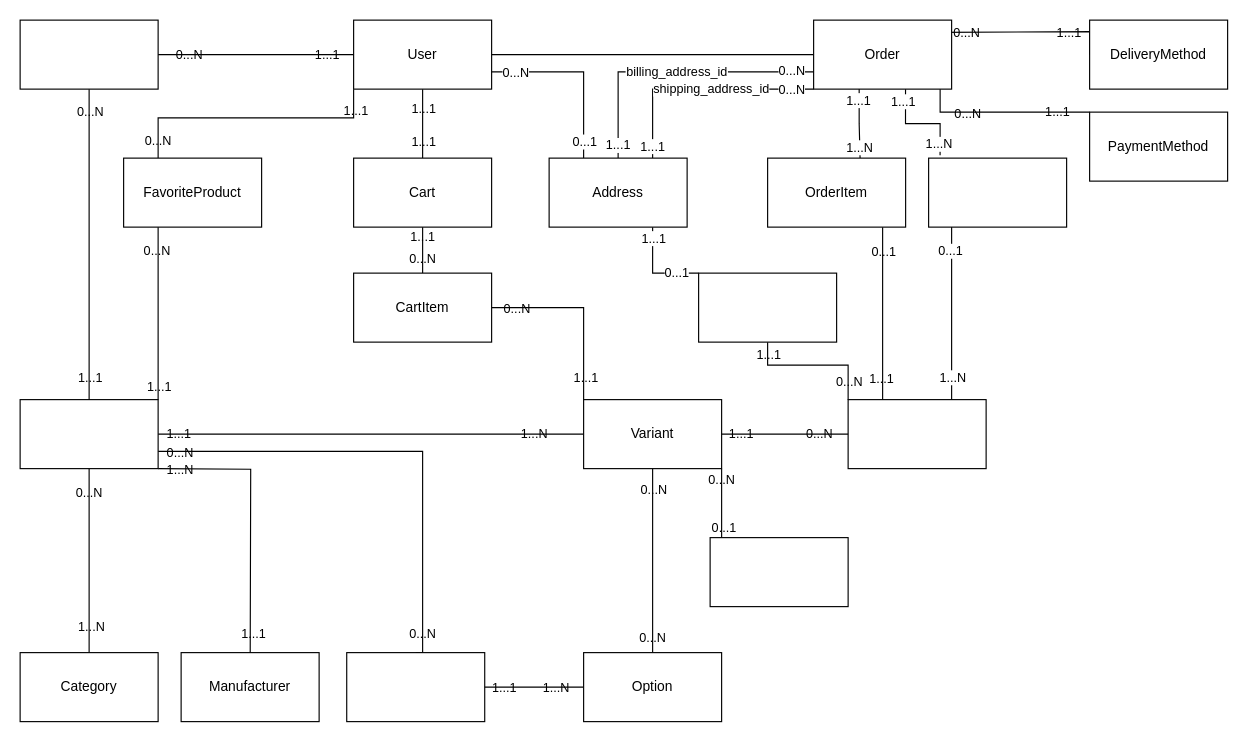
Image size: 1248x742. Some labels were removed from this diagram. Here are the shapes that lost their labels. From the top down, the centre of each, then its label:
the point at 88,54: Review
the point at 997,192: Shipment
the point at 767,307: Warehouse
the point at 88,433: Product
the point at 916,433: StockItem
the point at 778,571: Promotion
the point at 415,686: Attribute
